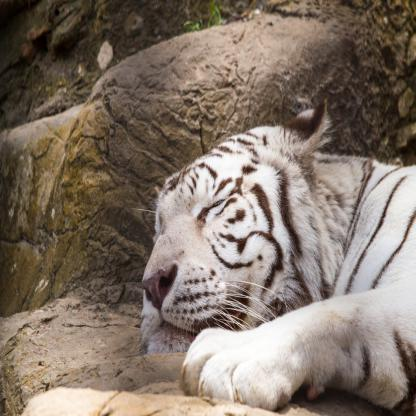Tiger: (129, 101, 416, 410)
